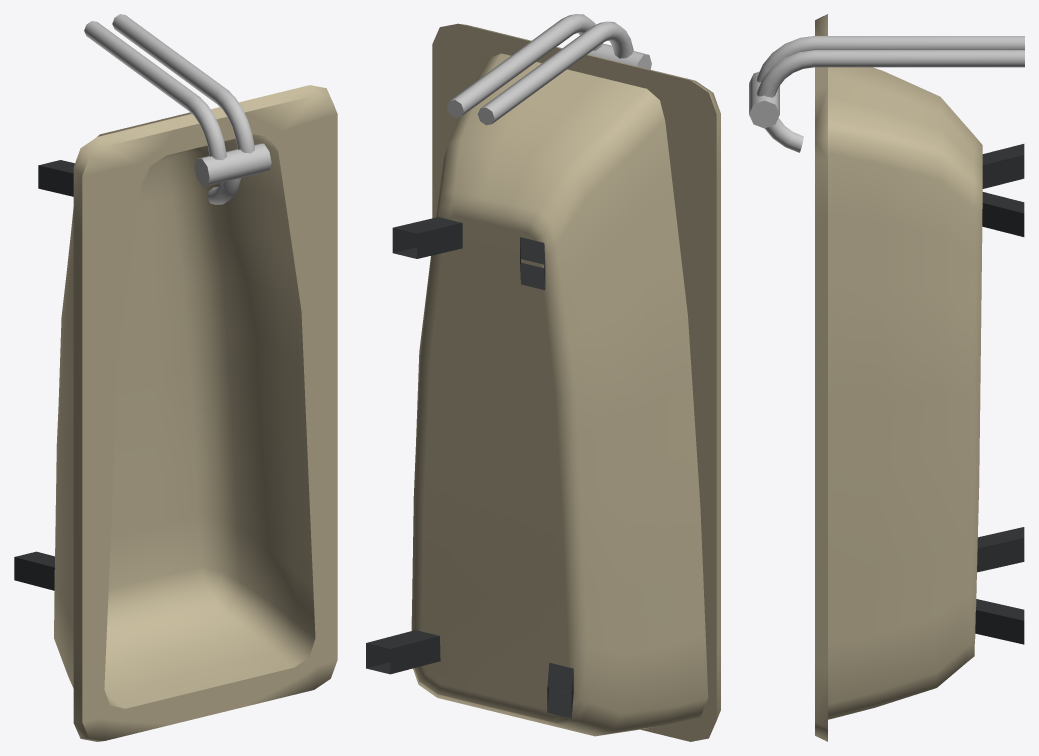
Rendered from bath.glb.
3 renders of one model, left to right at view 1: azimuth 30°, elevation 25°; view 2: azimuth 150°, elevation 25°; view 3: azimuth 270°, elevation 25°, orthographic. The views are drawn at different scales.
Visible parts, largest first — view 1: bath, crane, legs; view 2: bath, crane, legs; view 3: bath, crane, legs.
Part boxes in pixels (bbox=[...]): bath: bbox=[54, 85, 337, 741]; crane: bbox=[84, 14, 271, 204]; legs: bbox=[14, 160, 74, 590]; bath: bbox=[411, 23, 720, 741]; crane: bbox=[447, 14, 651, 125]; legs: bbox=[366, 217, 573, 718]; bath: bbox=[815, 14, 982, 741]; crane: bbox=[749, 36, 1024, 152]; legs: bbox=[975, 144, 1024, 644].
Size of the model in its own units: 0.8911 by 2.06 by 0.7995.
